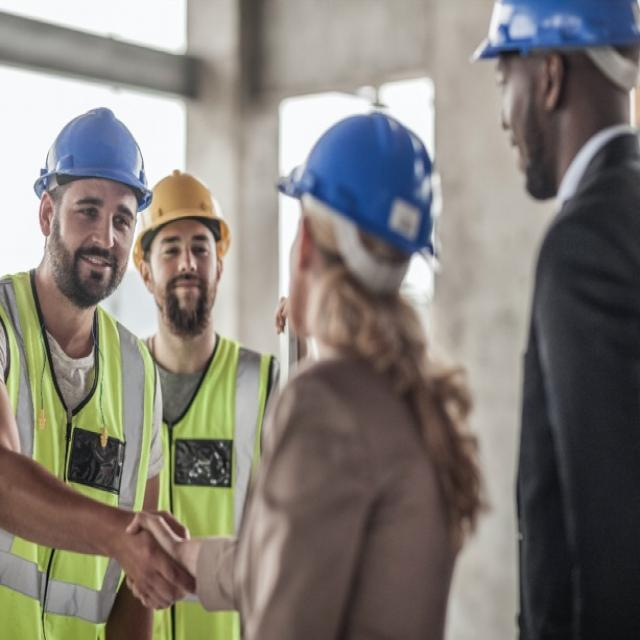Reflective-Jacket: (1, 276, 158, 636), (138, 328, 283, 640)
Safety-Helmet: (273, 90, 453, 274), (32, 103, 154, 211), (465, 0, 640, 74), (135, 166, 235, 250)
